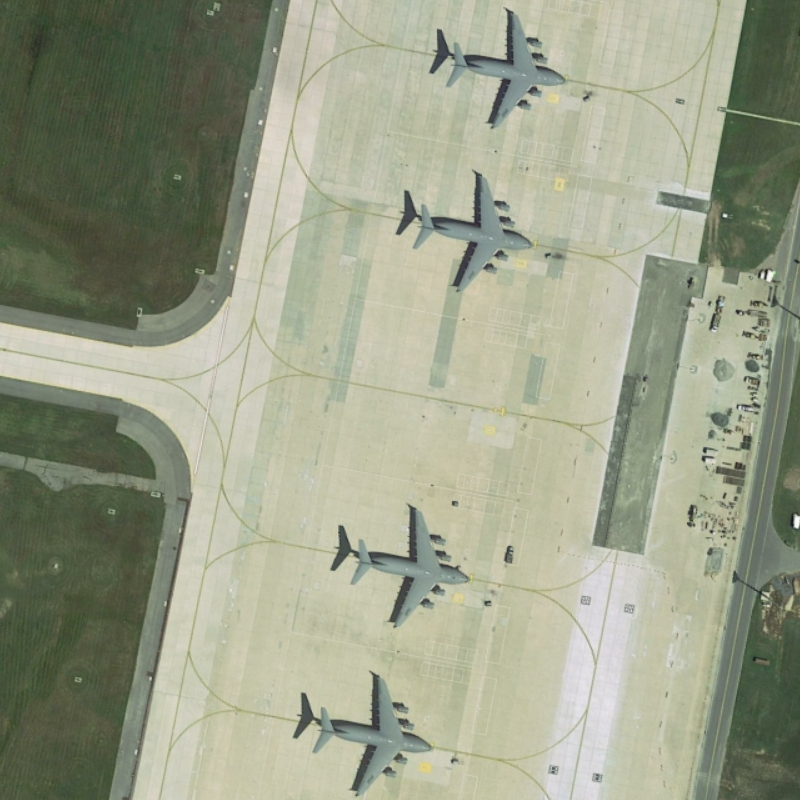A3: (437, 5, 573, 135), (343, 503, 474, 634), (309, 666, 434, 800), (406, 170, 539, 294)
